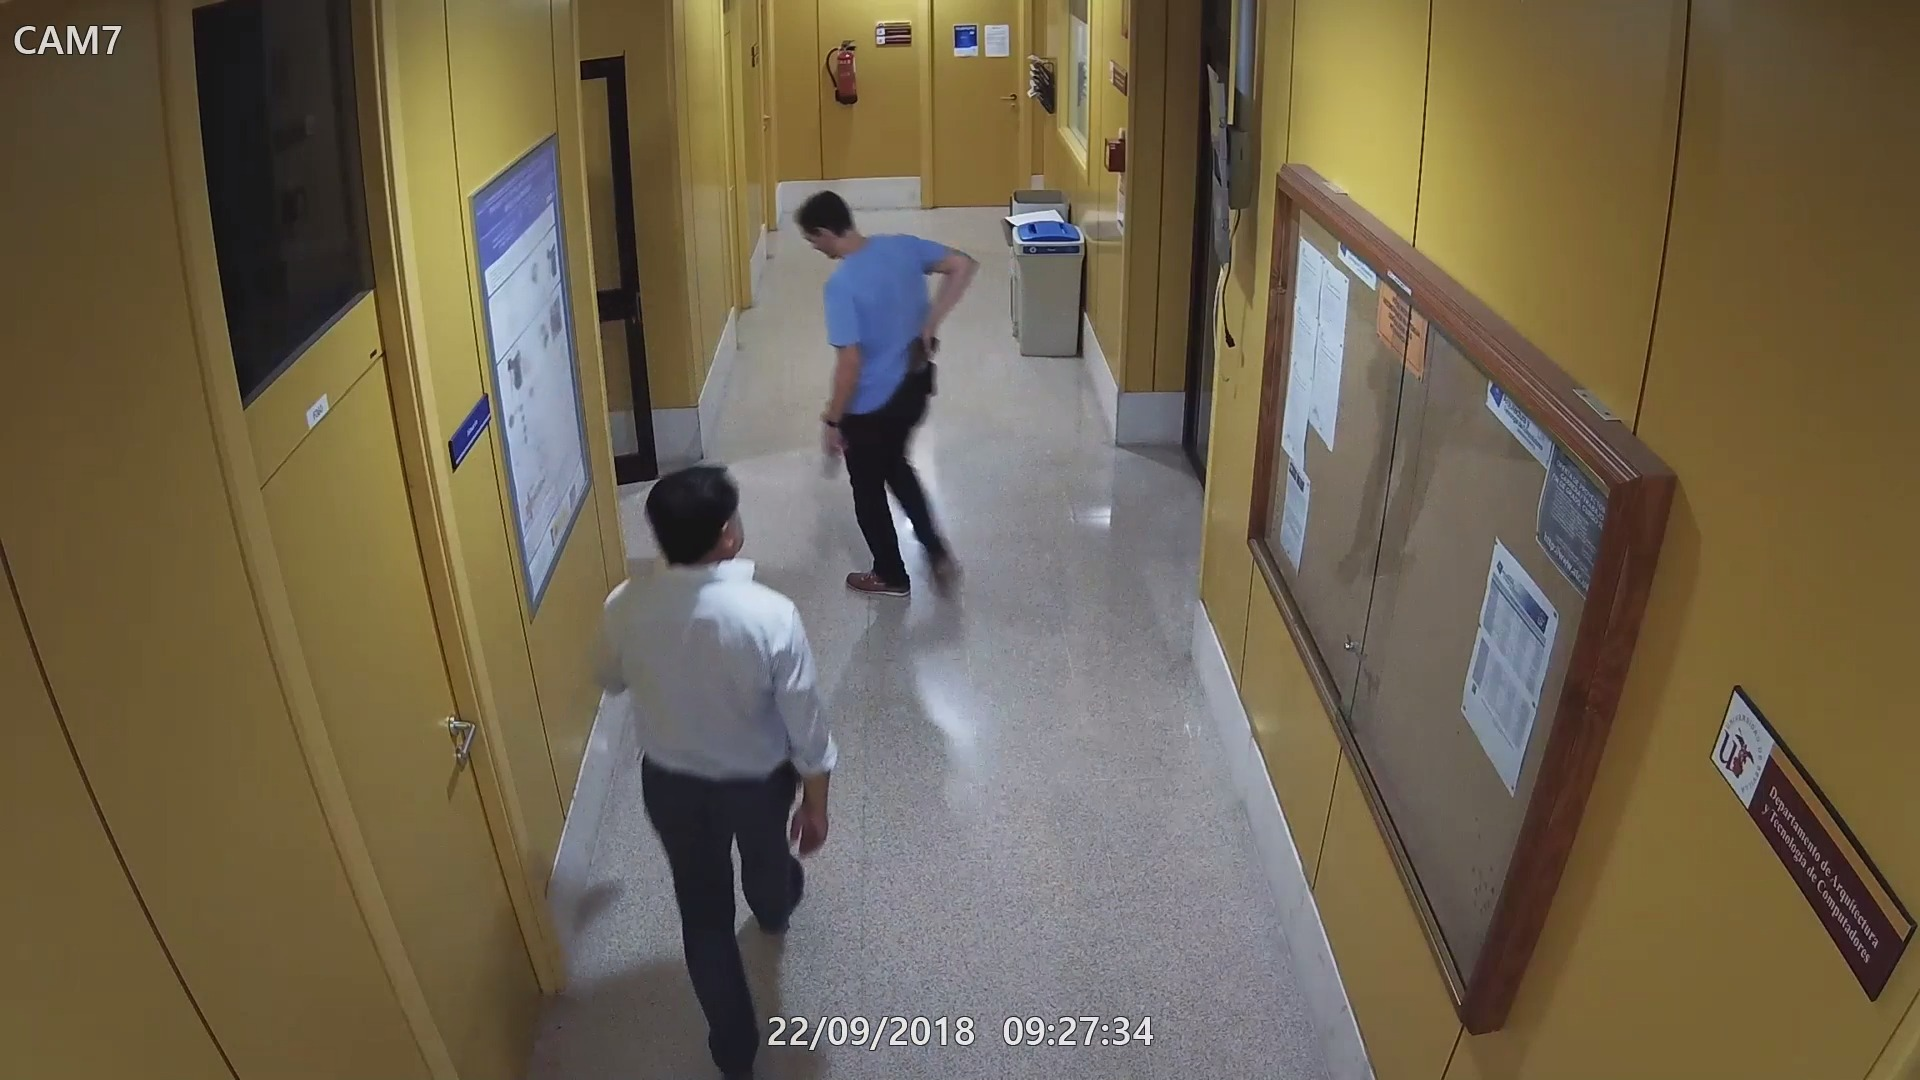Handgun: (906, 332, 938, 378)
Knife: (825, 431, 848, 483)
